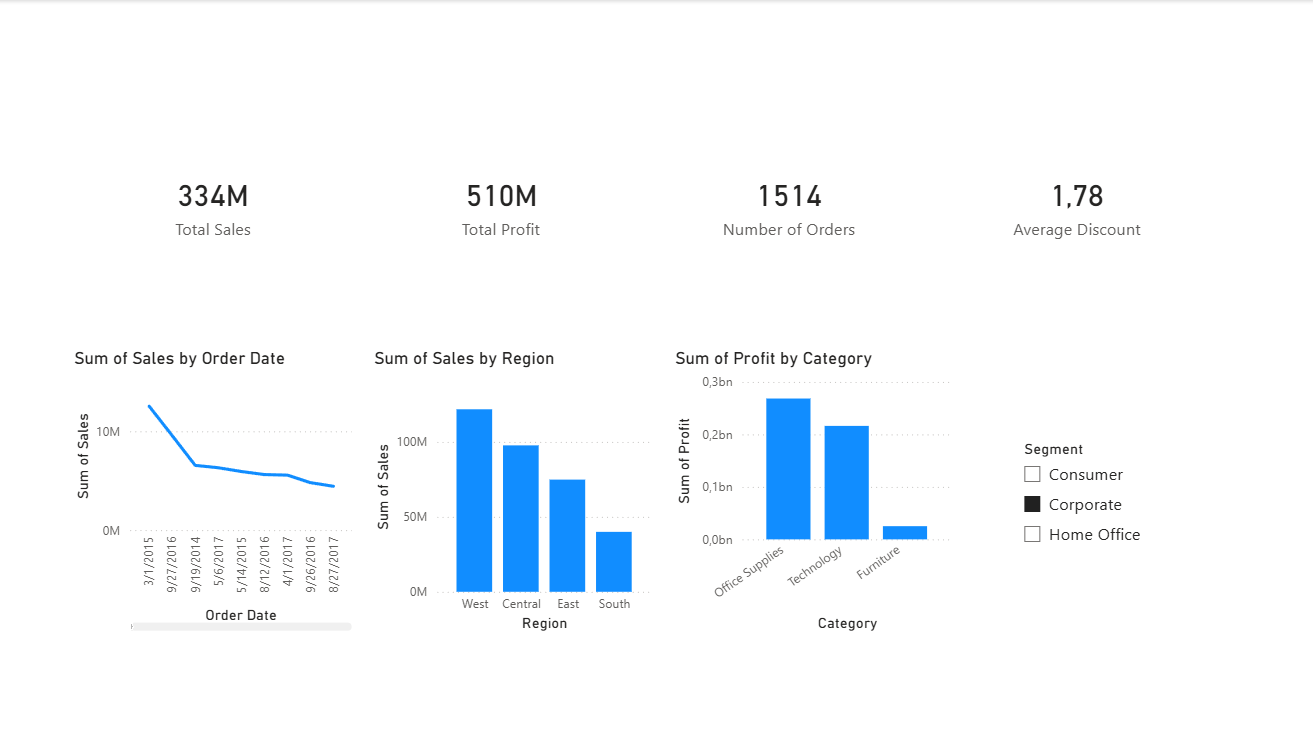

This screenshot's page, from the dashboard's own definition file:
{"tool":"powerbi","page":{"name":"Page 1","canvas":[1280,720],"ordinal":0},"visuals":[{"type":"card","fields":{"Values":["Sum(Sample - Superstore.Sales)"]},"box":[68.1,58.3,280.1,280.1],"z":0},{"type":"card","fields":{"Values":["Sum(Sample - Superstore.Profit)"]},"box":[348.2,58.3,280.1,280.1],"z":1000},{"type":"card","fields":{"Values":["Count(Sample - Superstore.Order ID)"]},"box":[628.3,58.3,280.1,280.1],"z":2000},{"type":"card","fields":{"Values":["Avg(Sample - Superstore.Discount)"]},"box":[908.4,58.3,280.1,280.1],"z":3000},{"type":"lineChart","fields":{"Category":["Sample - Superstore.Order Date"],"Y":["Sum(Sample - Superstore.Sales)"]},"box":[68.1,338.5,280.1,280.1],"z":4000},{"type":"columnChart","fields":{"Category":["Sample - Superstore.Region"],"Y":["Sum(Sample - Superstore.Sales)"]},"box":[359.9,338.5,280.1,280.1],"z":5000},{"type":"columnChart","fields":{"Category":["Sample - Superstore.Category"],"Y":["Sum(Sample - Superstore.Profit)"]},"box":[652.6,338.5,280.1,280.1],"z":6000},{"type":"slicer","fields":{"Values":["Sample - Superstore.Segment"]},"box":[984.3,423.1,160.5,130.3],"z":7000}]}

Visuals, with their boxes in screenshot pixels (x1, y1, x2, y2), scaled from the page's 1280x720 canvas onto the 1313x739 screenshot:
card - Sum(Sample - Superstore.Sales): [70, 60, 357, 347]
card - Sum(Sample - Superstore.Profit): [357, 60, 644, 347]
card - Count(Sample - Superstore.Order ID): [644, 60, 932, 347]
card - Avg(Sample - Superstore.Discount): [932, 60, 1219, 347]
lineChart - Sample - Superstore.Order Date x Sum(Sample - Superstore.Sales): [70, 347, 357, 635]
columnChart - Sample - Superstore.Region x Sum(Sample - Superstore.Sales): [369, 347, 656, 635]
columnChart - Sample - Superstore.Category x Sum(Sample - Superstore.Profit): [669, 347, 957, 635]
slicer - Sample - Superstore.Segment: [1010, 434, 1174, 568]
